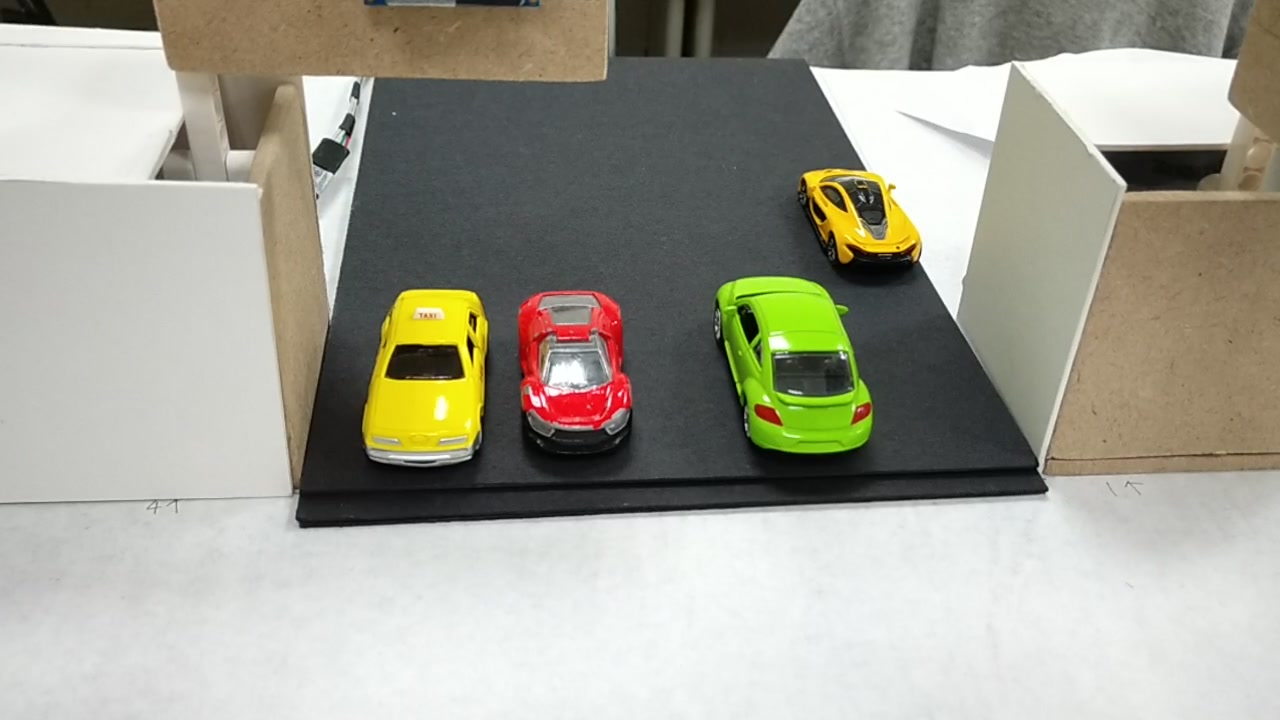car: (711, 278, 875, 455), (361, 297, 490, 474), (519, 292, 635, 458), (797, 167, 921, 275)
